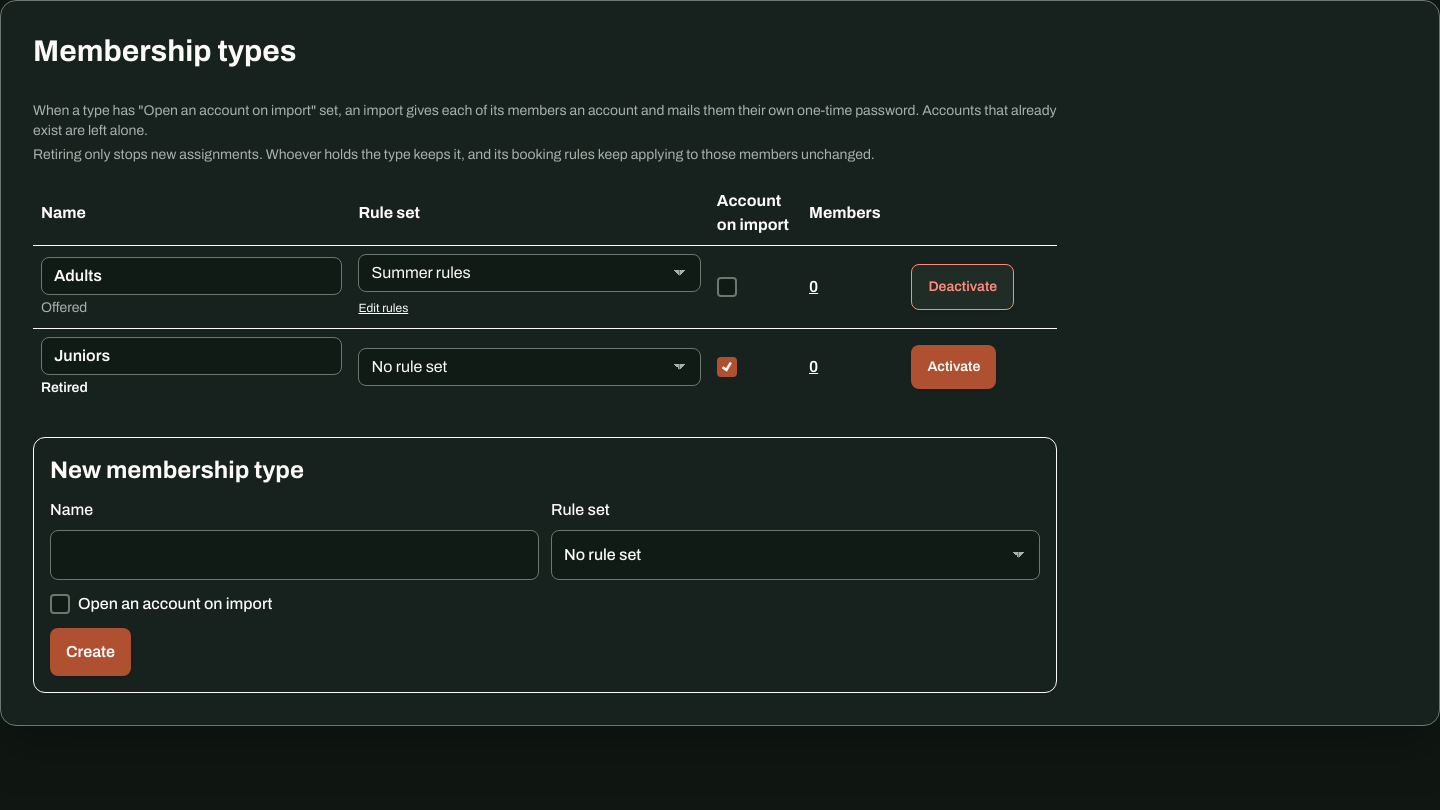
Test: AdminMembershipTypesView › given an active type, when retiring it, then the control offers to offer it again
The image size is (1440, 810).
Click the button with test id "toggle-membership-type-type-1" at (963, 287), box x1=911 y1=264 x2=1014 y2=310
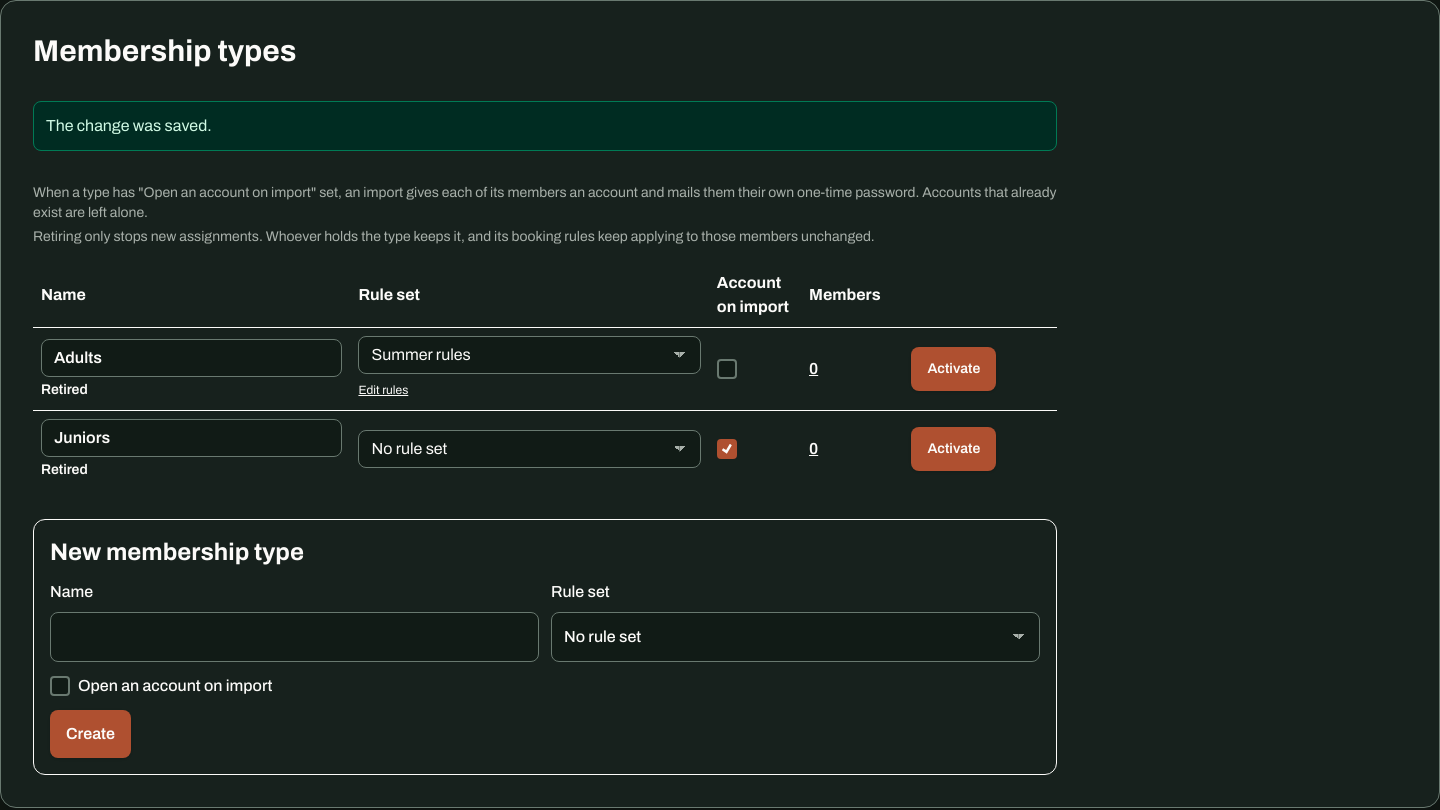
Expected: the button with test id "toggle-membership-type-type-1" reads "Activate", x1=911 y1=347 x2=996 y2=391
